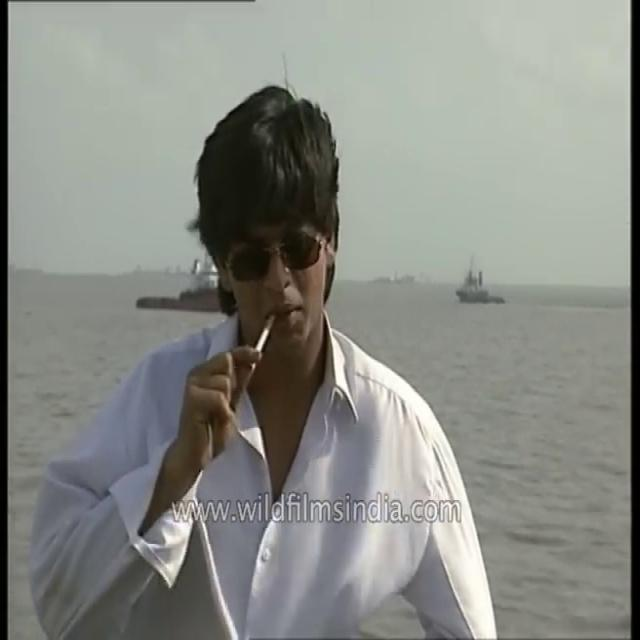Smooking: (246, 307, 280, 373)
